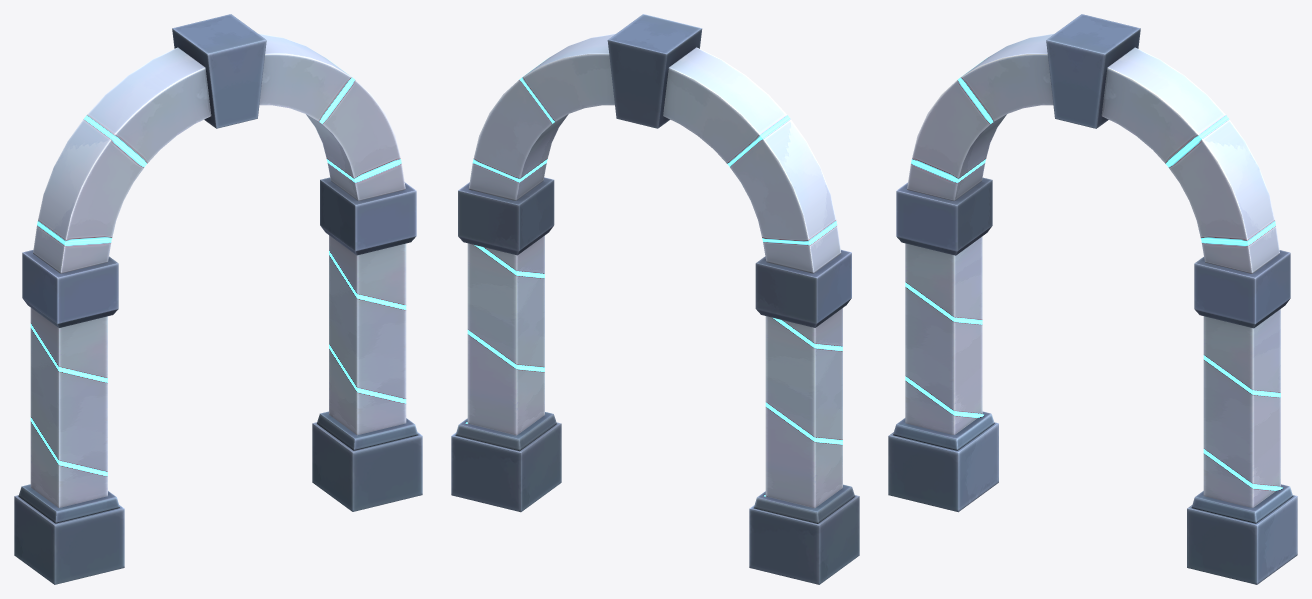
The model's file is obj_arc.gltf.
The picture shows the model from 3 angles, left to right: view 1: azimuth 30°, elevation 25°; view 2: azimuth 150°, elevation 25°; view 3: azimuth 330°, elevation 25°; orthographic projection.
Parts seen in each view (by area): view 1: obj_arc; view 2: obj_arc; view 3: obj_arc.
Boxes of the visible parts, x1,y1,x2,y2 form: obj_arc: (14, 14, 422, 584); obj_arc: (451, 14, 859, 584); obj_arc: (888, 14, 1297, 584).
Size of what is drawn, in the model's own units: 3.15 by 4.02 by 0.6015.
1 material, 1 textured.
